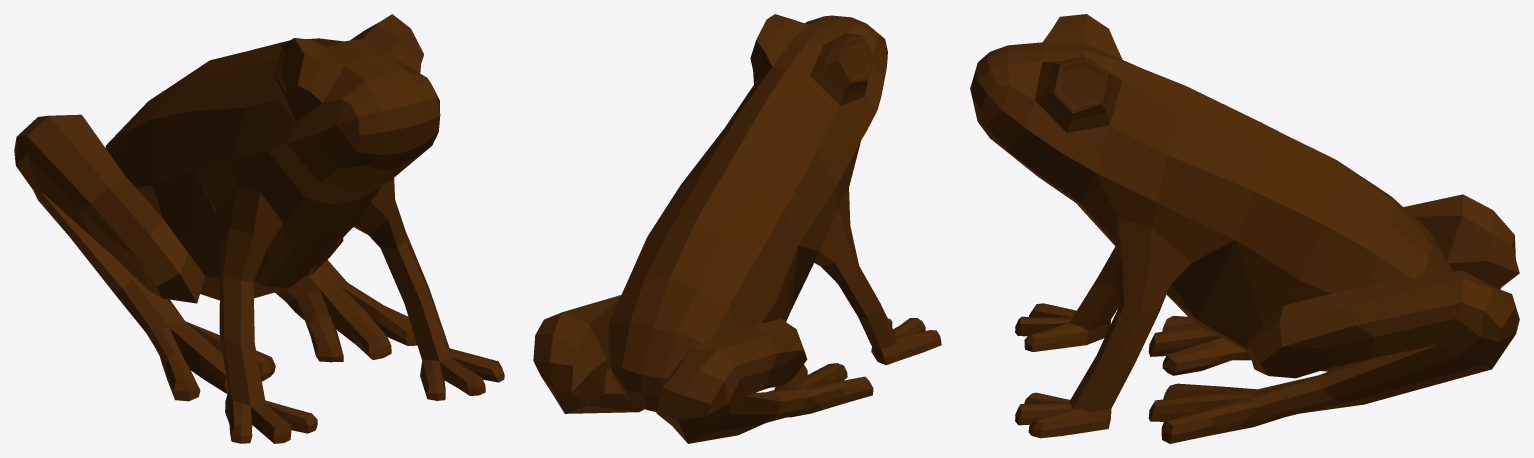
Rendered from ChocolateFrog.glb.
3 renders of one model, left to right at view 1: azimuth 30°, elevation 25°; view 2: azimuth 150°, elevation 25°; view 3: azimuth 270°, elevation 25°, orthographic. The views are drawn at different scales.
Visible parts, largest first — view 1: ChocolateFrog; view 2: ChocolateFrog; view 3: ChocolateFrog.
Boxes of the visible parts, x1,y1,x2,y2 form: ChocolateFrog: (14, 14, 504, 443); ChocolateFrog: (533, 14, 941, 443); ChocolateFrog: (970, 14, 1519, 443).
Bounding box in the file's own units: 0.6551 × 0.8645 × 1.22.
